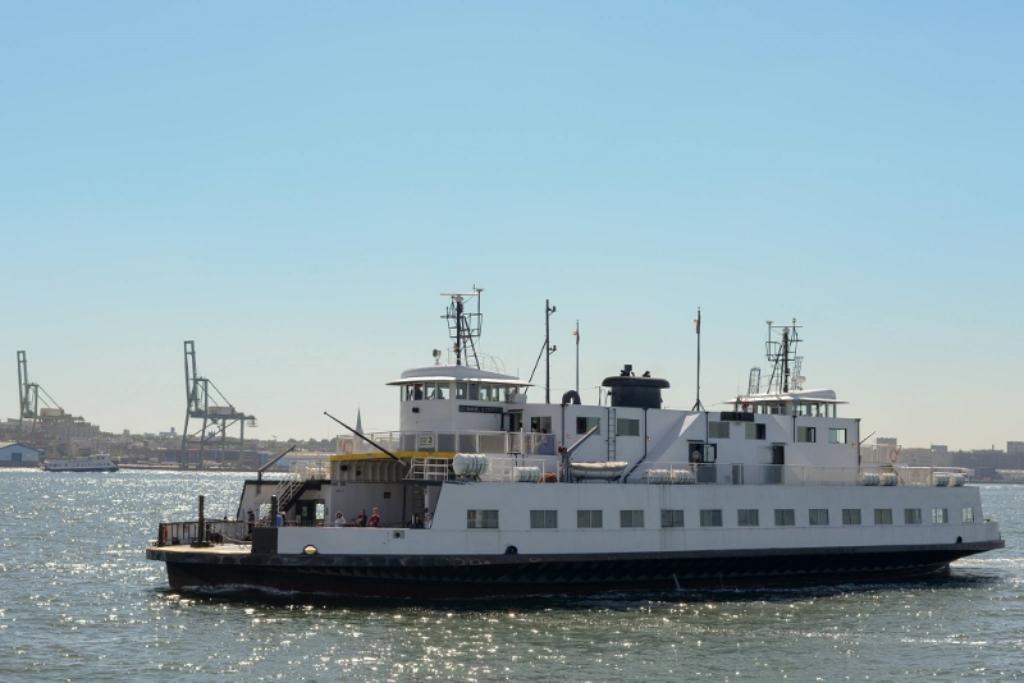PassengerShip: (156, 281, 1024, 605)
